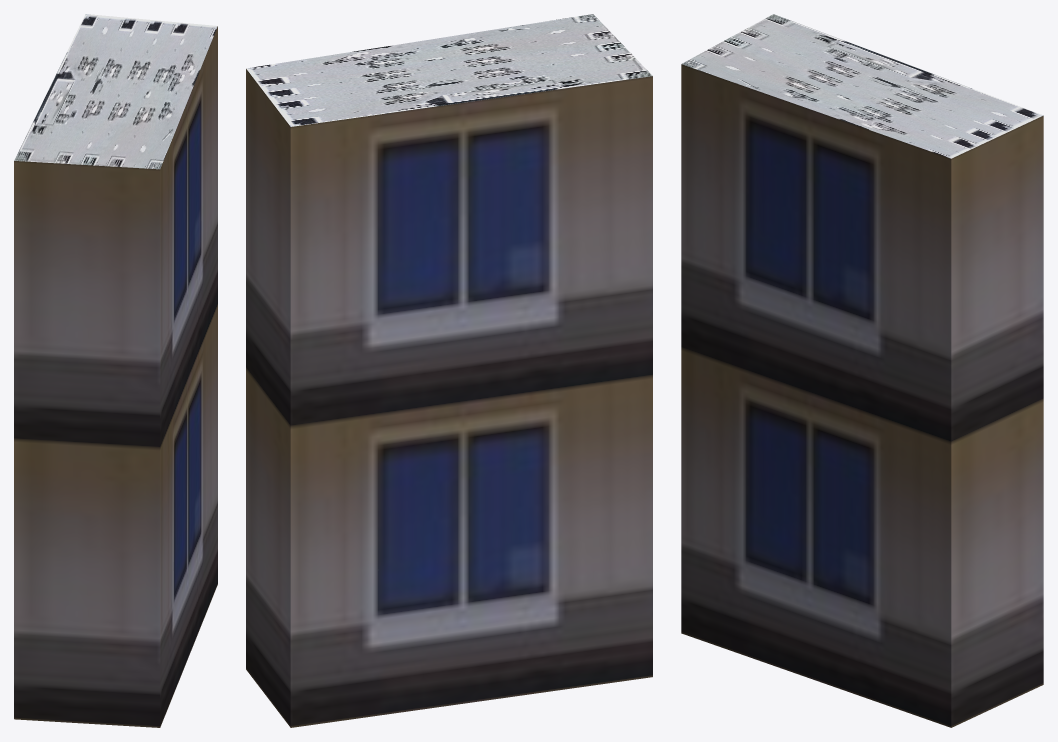
The model's file is ResTex__2139.fbx.
3 views of the same model, side by side, from view 1: azimuth 30°, elevation 25°; view 2: azimuth 150°, elevation 25°; view 3: azimuth 270°, elevation 25° (orthographic). The views are drawn at different scales.
Parts seen in each view (by area): view 1: CityEngineMaterial_5_m, CityEngineMaterial_8_m; view 2: CityEngineMaterial_5_m, CityEngineMaterial_8_m; view 3: CityEngineMaterial_5_m, CityEngineMaterial_8_m.
Boxes of the visible parts, <box> form: CityEngineMaterial_5_m: <box>14,26,217,727</box>; CityEngineMaterial_8_m: <box>14,14,217,169</box>; CityEngineMaterial_5_m: <box>246,69,652,727</box>; CityEngineMaterial_8_m: <box>246,14,652,126</box>; CityEngineMaterial_5_m: <box>681,64,1043,727</box>; CityEngineMaterial_8_m: <box>681,14,1043,158</box>.
Bounding box in the file's own units: 3.27 × 6 × 3.46.
2 materials, 2 textured.
